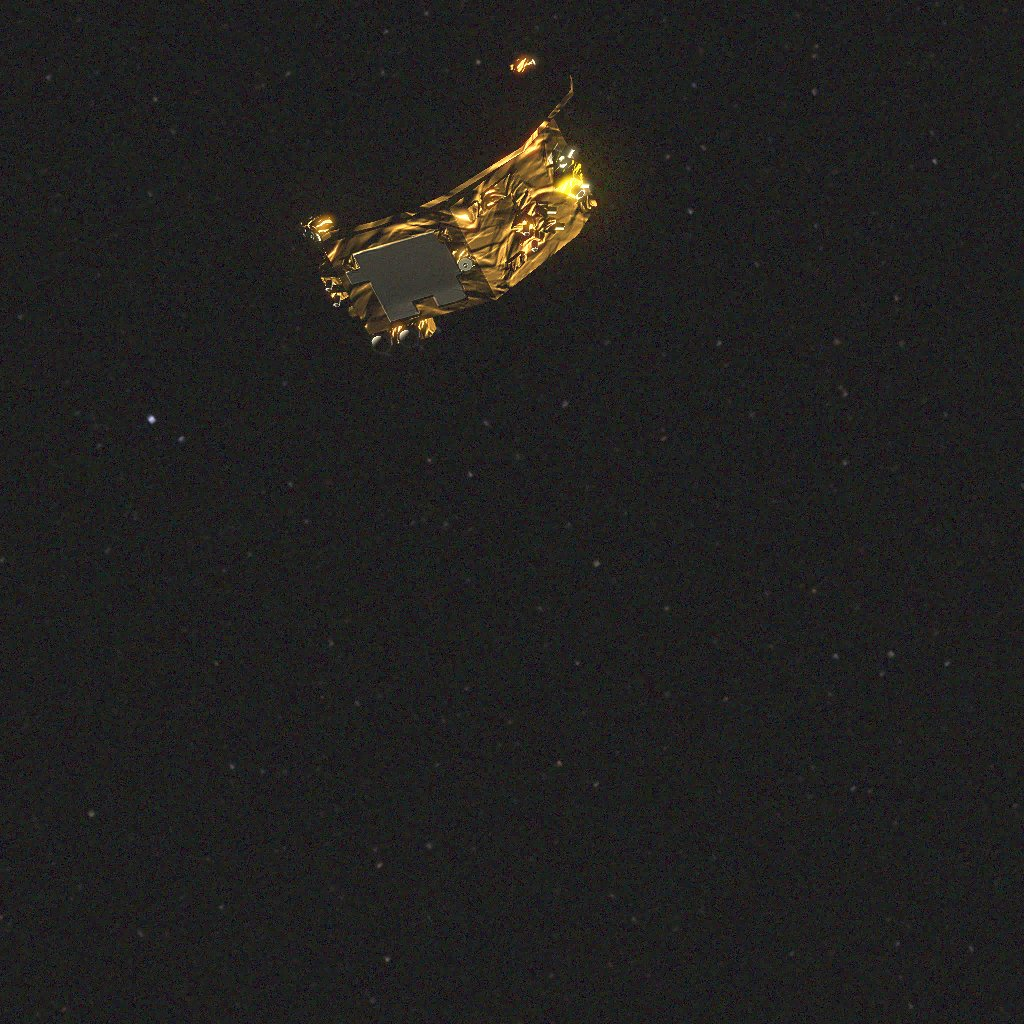lisa_pathfinder: (276, 55, 597, 354)
